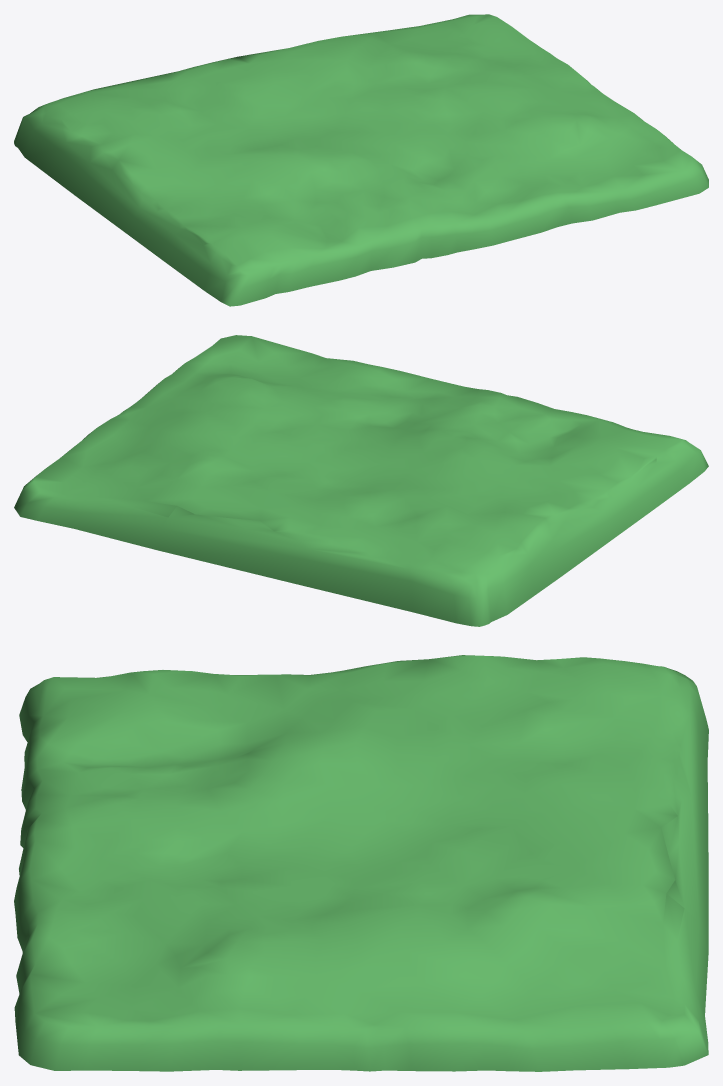
Rendered from landscape_011.glb.
3 views of the same model, one above another, from view 1: azimuth 30°, elevation 25°; view 2: azimuth 150°, elevation 25°; view 3: azimuth 270°, elevation 25° (orthographic). The views are drawn at different scales.
Visible parts, largest first — view 1: landscape_011; view 2: landscape_011; view 3: landscape_011.
Boxes of the visible parts, bbox=[...] form: landscape_011: bbox=[14, 14, 708, 306]; landscape_011: bbox=[14, 335, 708, 626]; landscape_011: bbox=[14, 655, 708, 1071].
Bounding box in the file's own units: 42.49 × 3.93 × 34.14.
1 material, 1 textured.
